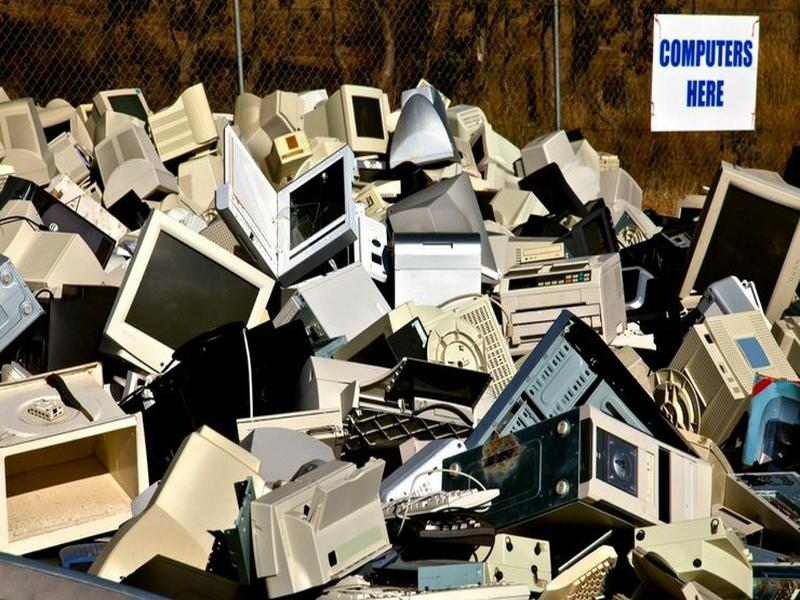tv_pc: (97, 203, 276, 379), (672, 154, 800, 324), (274, 145, 367, 271), (299, 76, 395, 158), (144, 79, 221, 165), (83, 86, 153, 125)
